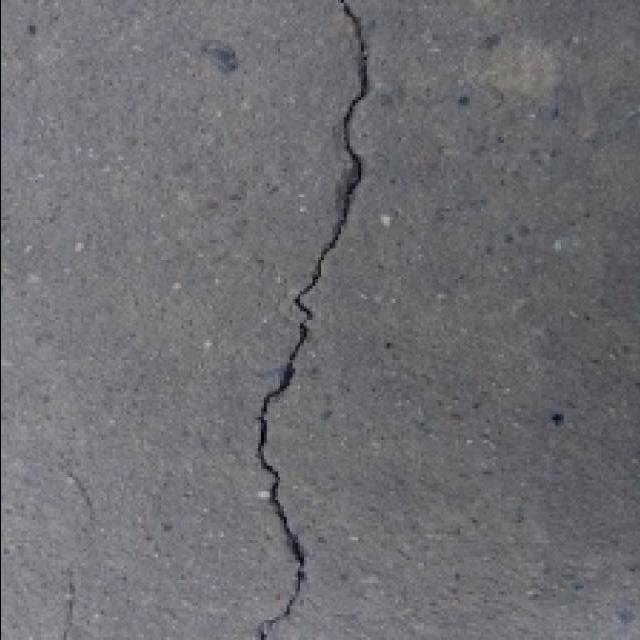SurfaceCrack: (220, 0, 394, 640)
